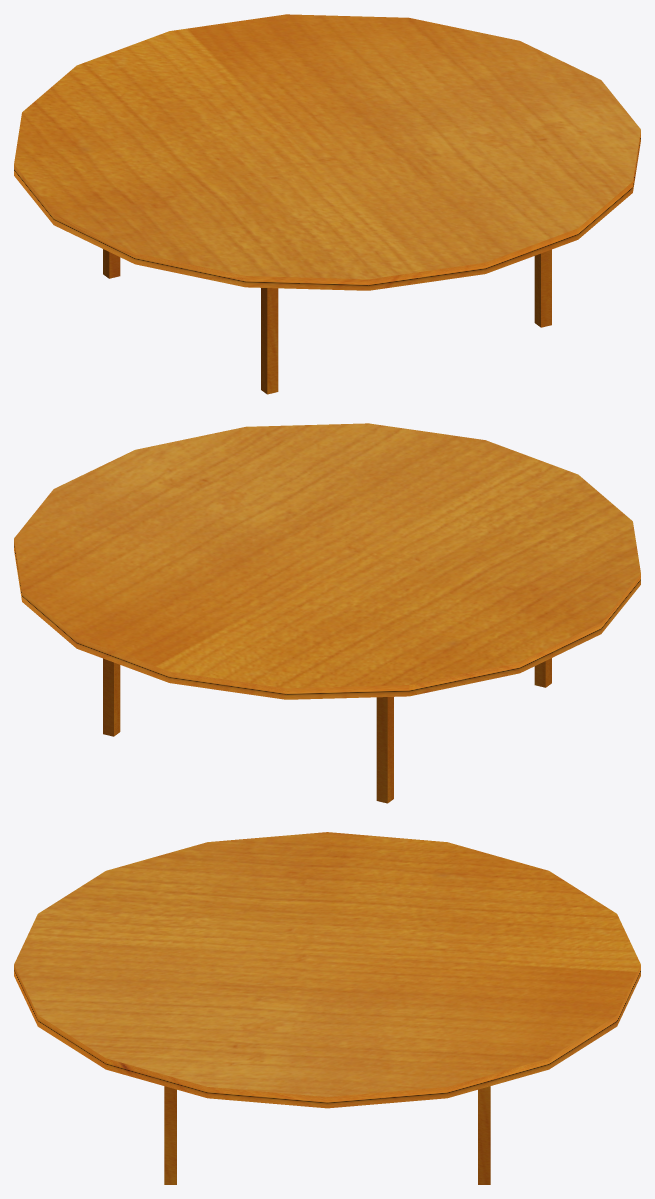
The model's file is Table.dae.
3 renders of one model, top to bottom at view 1: azimuth 30°, elevation 25°; view 2: azimuth 150°, elevation 25°; view 3: azimuth 270°, elevation 25°, orthographic.
Parts seen in each view (by area): view 1: Cylinder; view 2: Cylinder; view 3: Cylinder.
Boxes of the visible parts, box(x1,y1,x2,y2) form: Cylinder: box(14, 14, 640, 394); Cylinder: box(14, 423, 640, 803); Cylinder: box(14, 832, 640, 1184).
Size of the model in its own units: 2 by 2 by 0.5332.
1 material, 1 textured.
